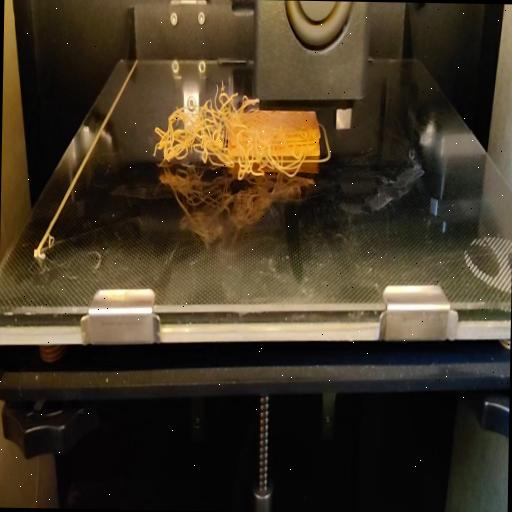spaghetti: (154, 75, 253, 188), (251, 116, 305, 184)
